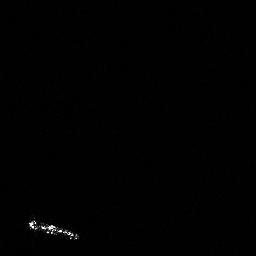ship: (24, 215, 83, 243)
